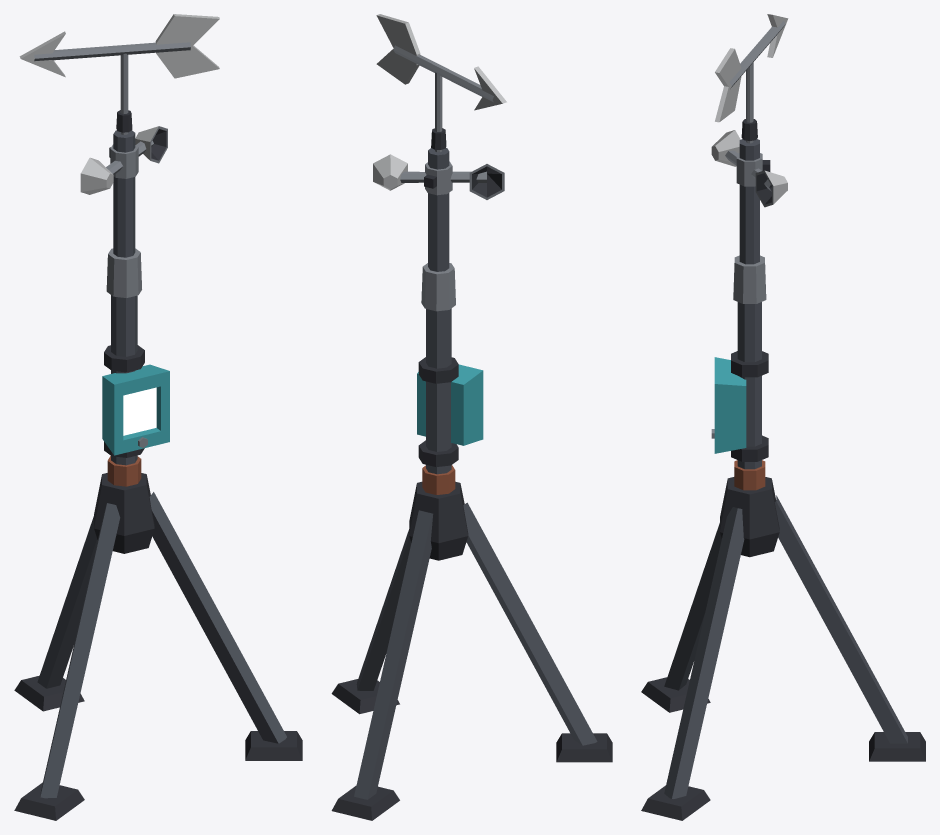
File: weather-mast-7d088f.glb
The picture shows the model from 3 angles, left to right: view 1: azimuth 30°, elevation 25°; view 2: azimuth 150°, elevation 25°; view 3: azimuth 270°, elevation 25°; orthographic projection. The views are drawn at different scales.
Parts seen in each view (by area): view 1: mast, vane-mesh, sensor-shell, anemometer-mesh, sensor-readout; view 2: mast, vane-mesh, anemometer-mesh, sensor-shell; view 3: mast, vane-mesh, sensor-shell, anemometer-mesh.
Boxes of the visible parts, x1,y1,x2,y2 form: mast: (14,130,302,820); vane-mesh: (19,14,219,134); sensor-shell: (102,364,169,455); anemometer-mesh: (80,126,167,194); sensor-readout: (123,387,156,435); mast: (331,148,612,820); vane-mesh: (376,14,506,152); anemometer-mesh: (373,154,504,199); sensor-shell: (417,364,483,445); mast: (641,139,925,820); vane-mesh: (715,14,788,143); sensor-shell: (711,357,746,453); anemometer-mesh: (711,130,787,207).
Size of the model in its own units: 1.45 by 3.51 by 1.25.
